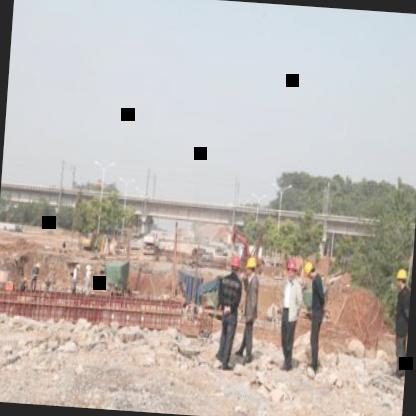helmet: (392, 263, 409, 294), (226, 249, 243, 279), (282, 255, 298, 283), (302, 260, 318, 282), (244, 254, 258, 278)
